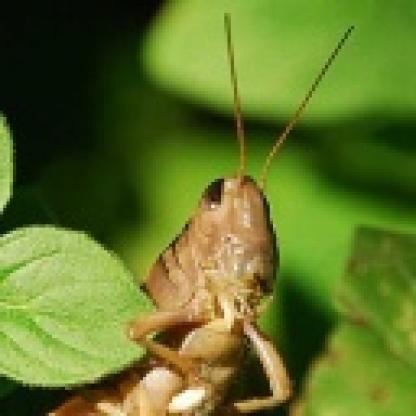grasshopper: (78, 0, 358, 416)
